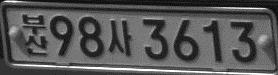1: (201, 19, 225, 62)
3: (230, 20, 256, 62), (142, 18, 168, 59)
6: (173, 18, 199, 61)
8: (78, 16, 104, 57)
9: (49, 14, 73, 56)
부산_V: (21, 13, 47, 55)
사: (107, 19, 132, 56)
